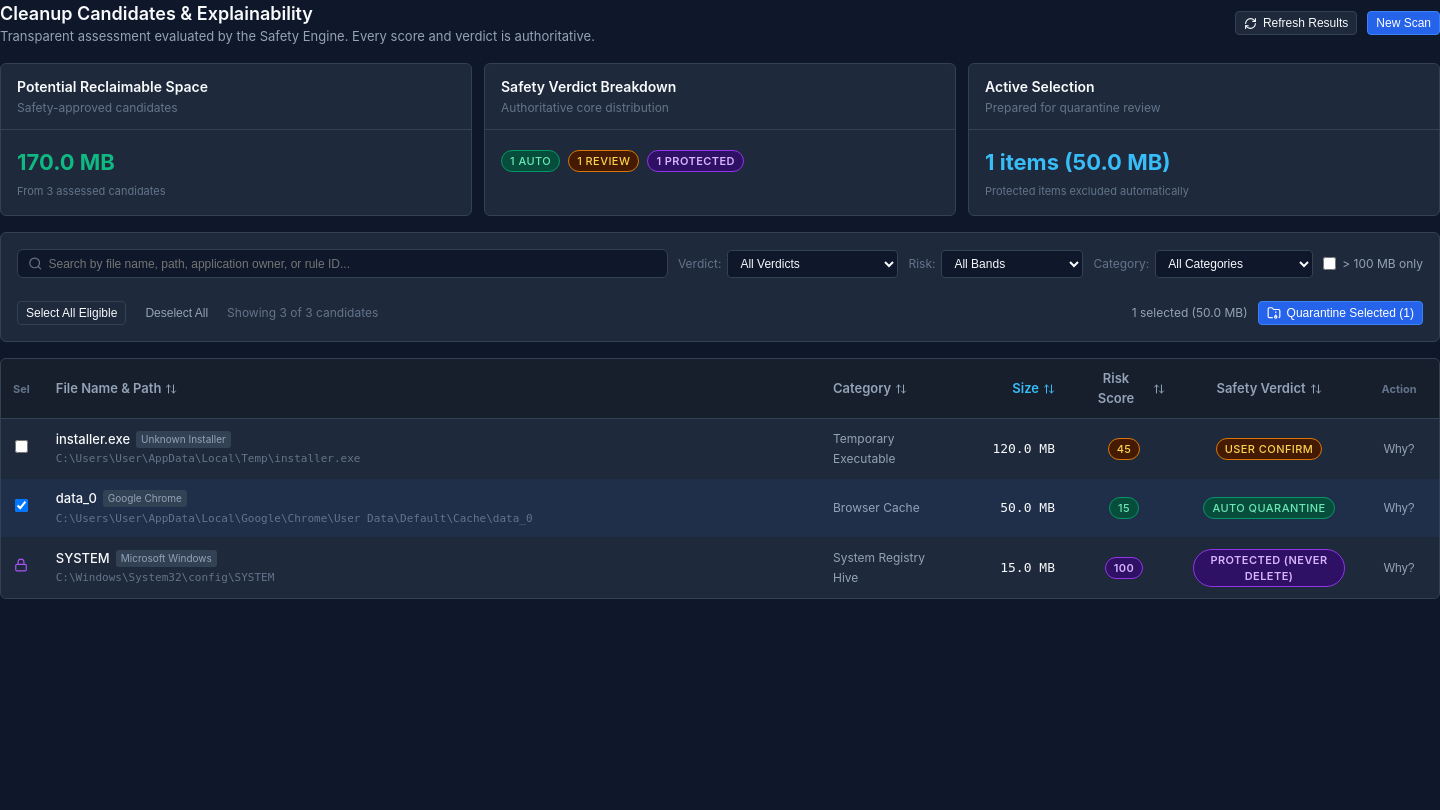
Test case: M3.4: Results & Explainability Workflow › clicking a candidate row opens ExplainabilityDrawer displaying provenance, rules, risk factors, and safety reasons
Click Chrome item row
Click the text "data_0". click: (76, 499)
box: top-left (56, 489), bottom-right (97, 508)
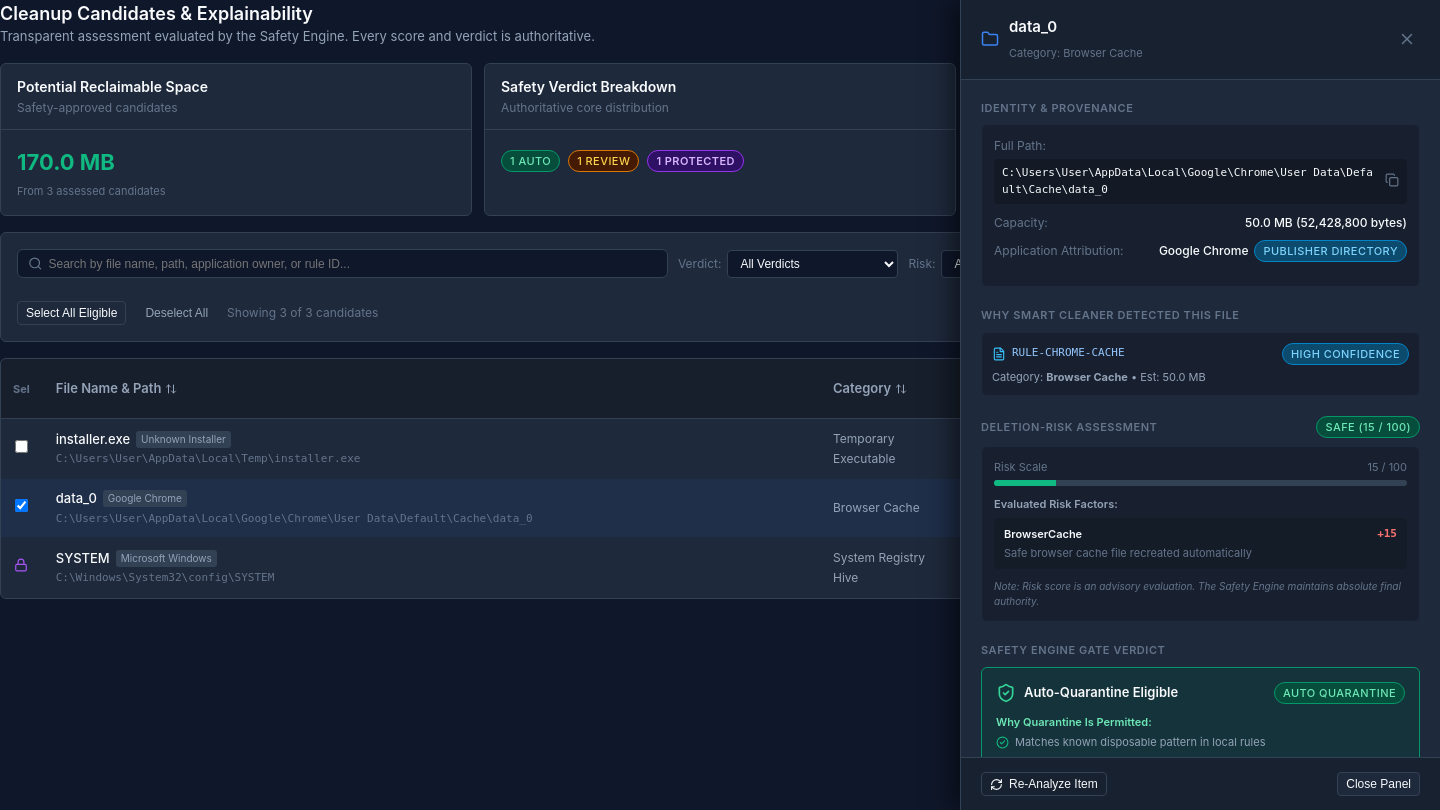
Result: the dialog named "candidate explainability details" is shown at top-left (960, 0), bottom-right (1439, 809)
Result: the text "Identity & Provenance" is shown at top-left (981, 100), bottom-right (1133, 114)
Result: the text "RULE-CHROME-CACHE" is shown at top-left (1012, 345), bottom-right (1125, 362)
Close drawer
Click the button named "close explainability panel". click: (1407, 39)
box: top-left (1394, 26), bottom-right (1420, 52)
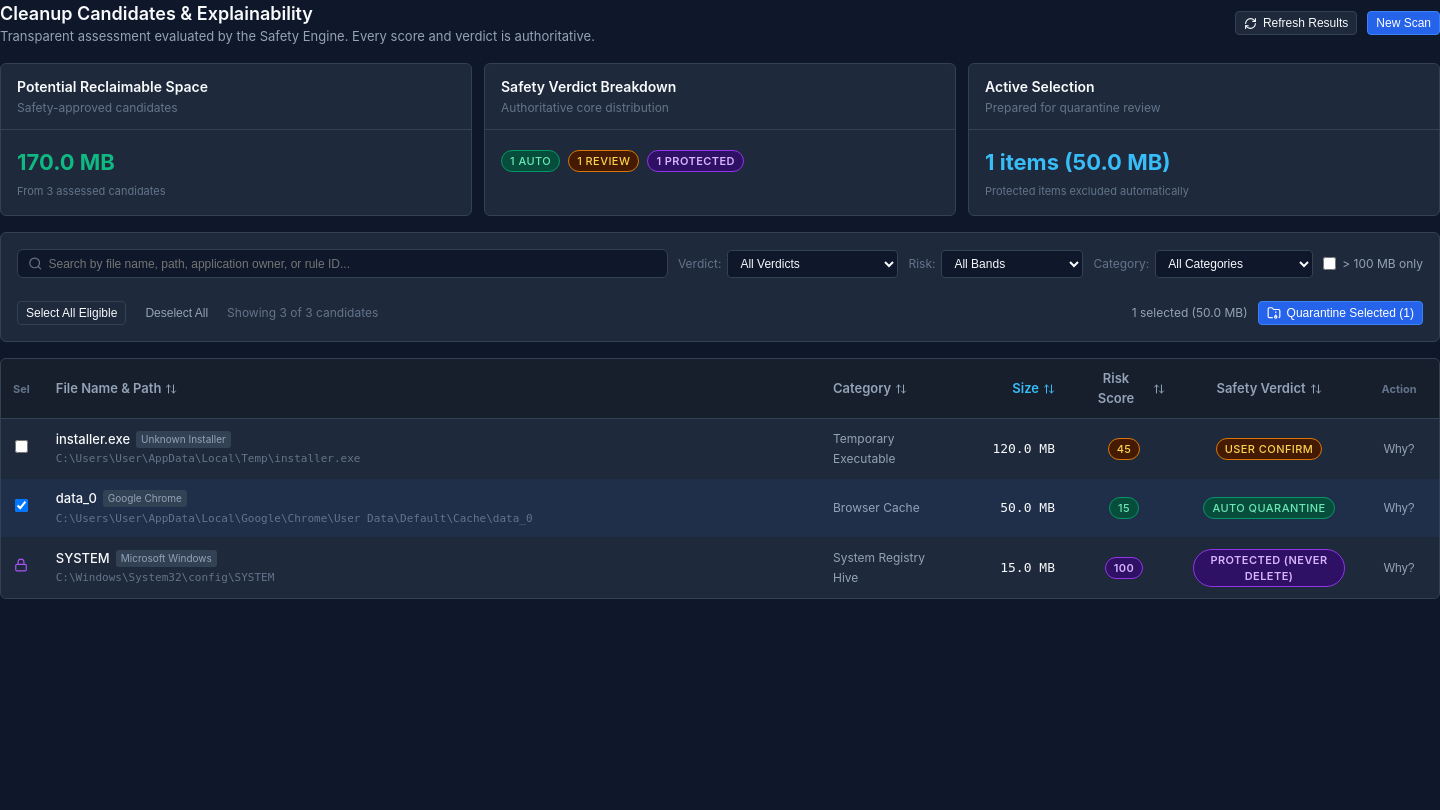
Result: the dialog is gone
